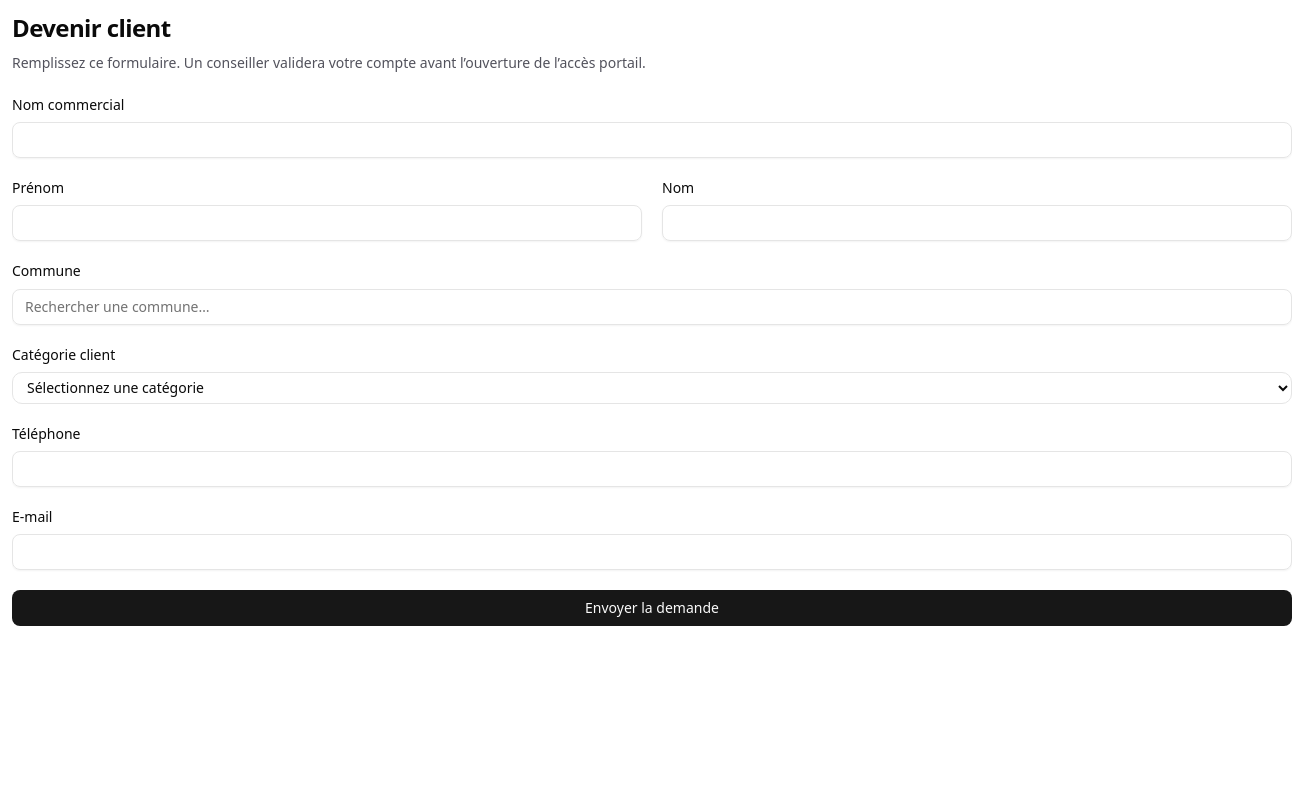
Test: SignupForm › refuse l’envoi sans commune
Type "Pharmacie Test" into the field labelled "Nom commercial".
click(652, 140); type("Pharmacie Test")  # box left=12, top=122, right=1292, bottom=158
Type "Amina" into the field labelled "Prénom".
click(327, 223); type("Amina")  # box left=12, top=205, right=642, bottom=241
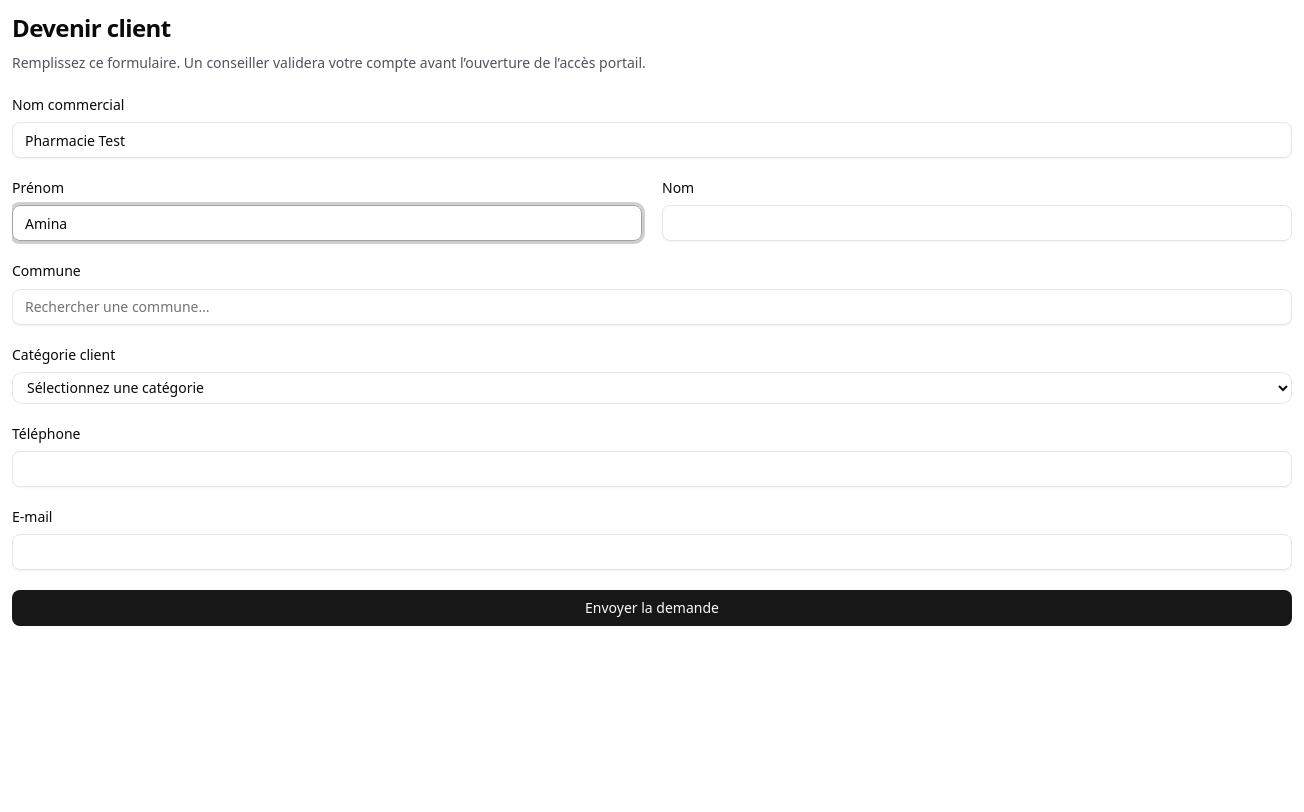
Type "Benali" into the field labelled "Nom".
click(977, 223); type("Benali")  # box left=662, top=205, right=1292, bottom=241
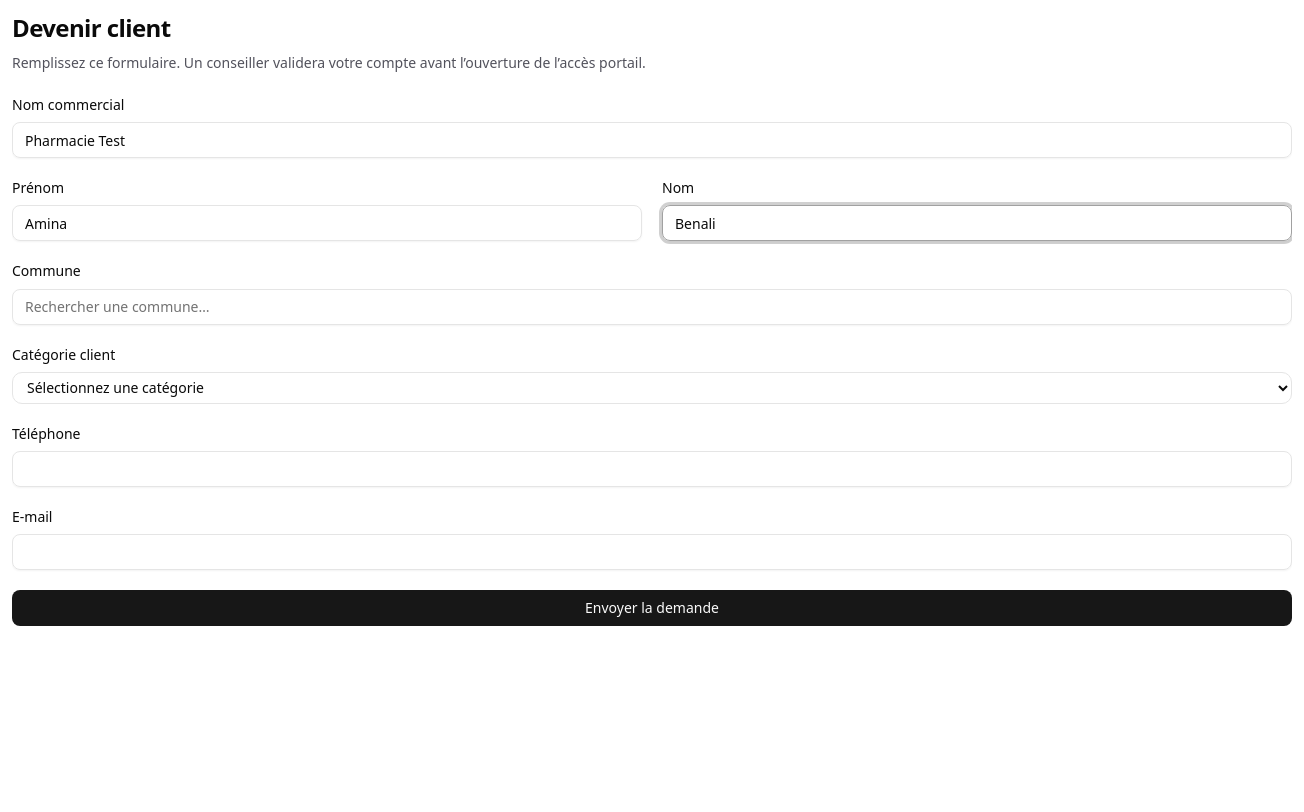
Select "Commercial" in the dropdown labelled "Catégorie client" at (652,388), box left=12, top=372, right=1292, bottom=404
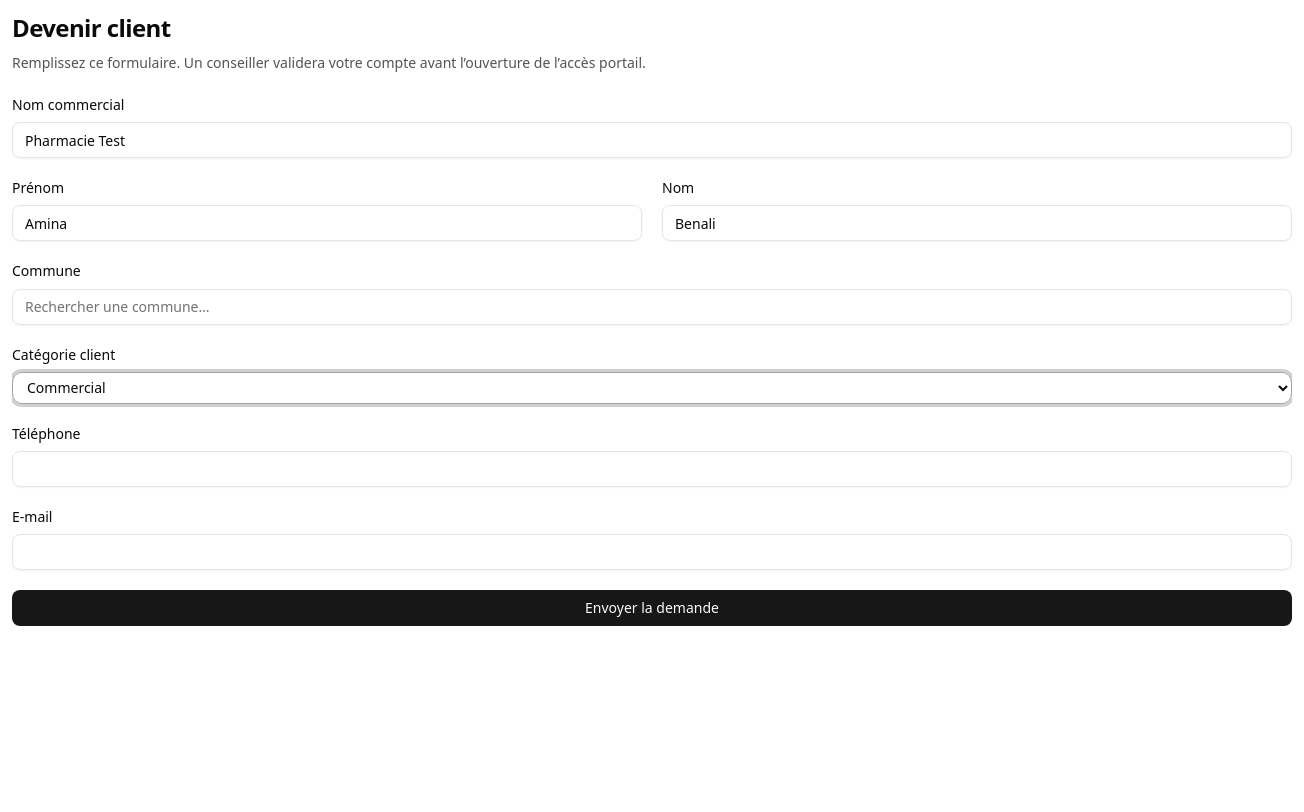
Type "0550123456" into the field labelled "Téléphone".
click(652, 469); type("0550123456")  # box left=12, top=451, right=1292, bottom=487
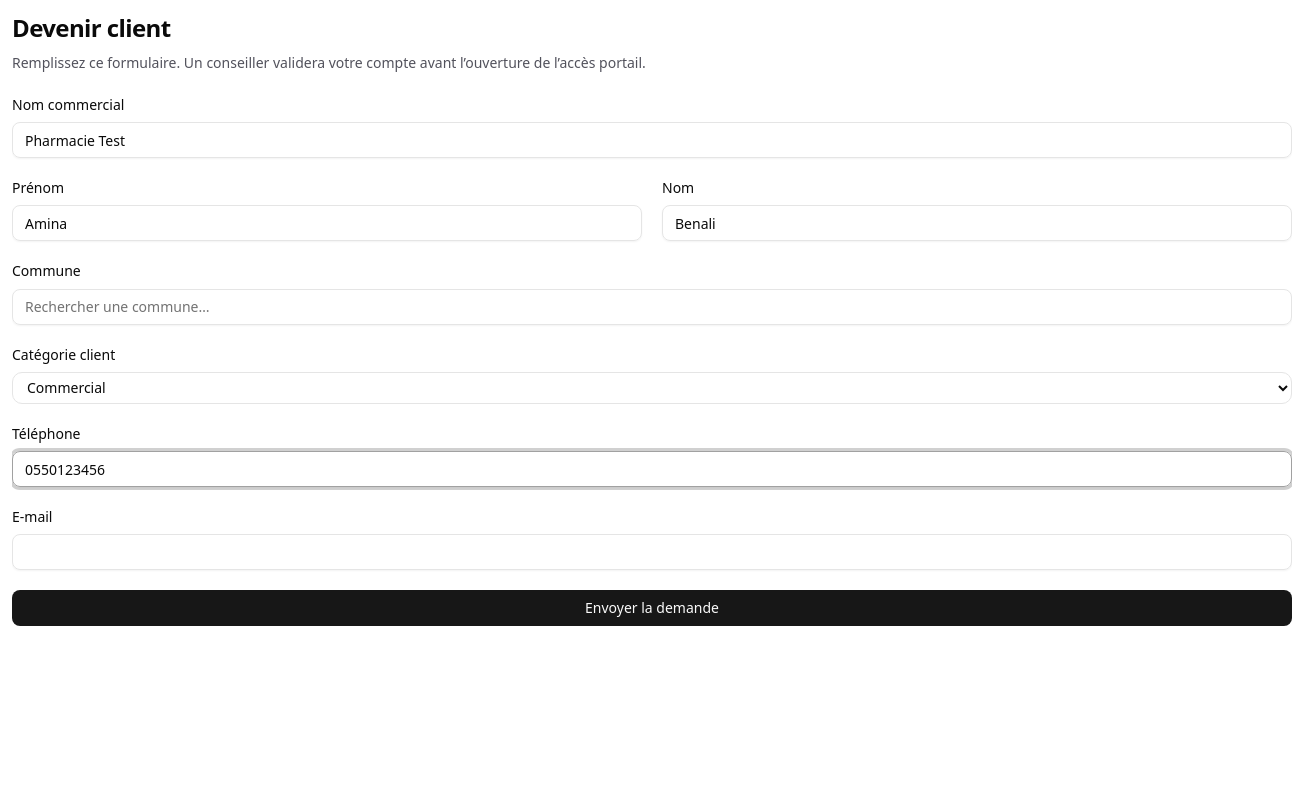
Type "amina@example.com" into the field labelled "E-mail".
click(652, 552); type("amina@example.com")  # box left=12, top=534, right=1292, bottom=570
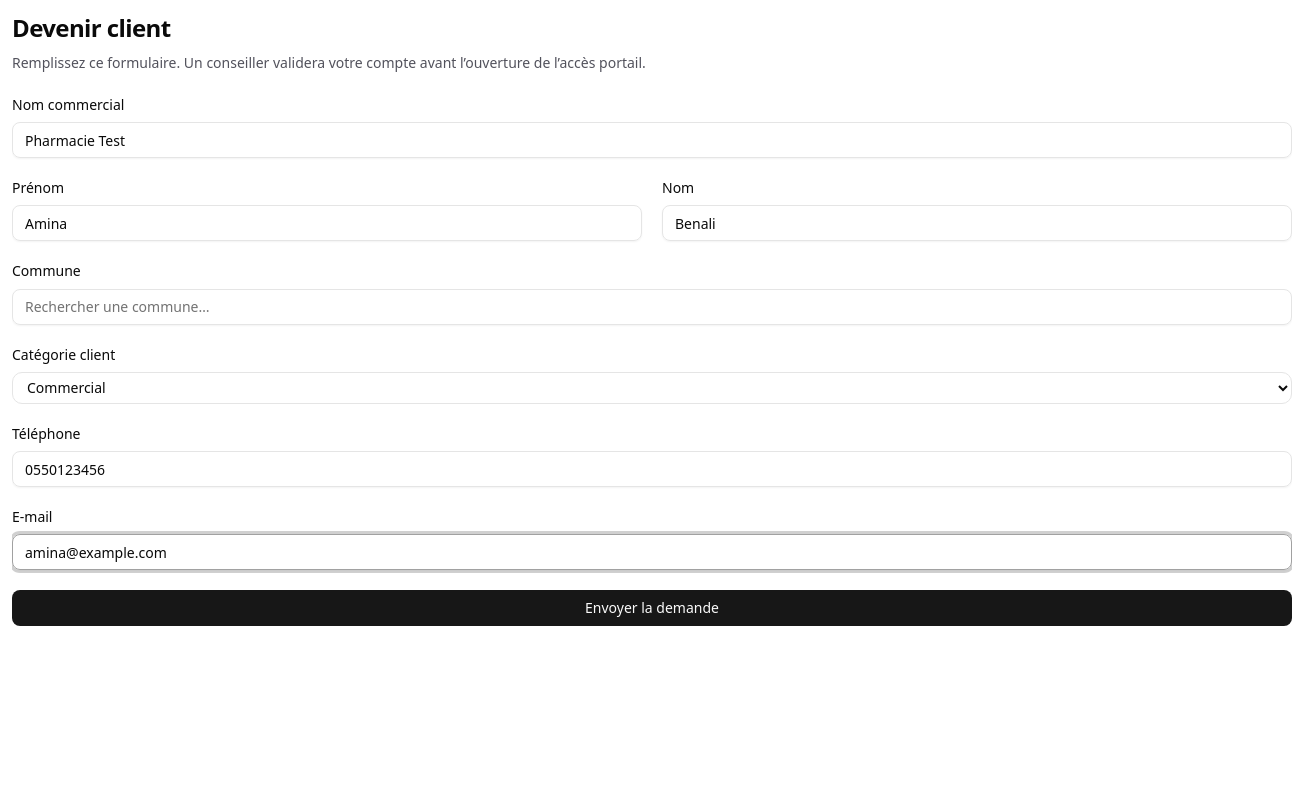
Click the button "Envoyer la demande".
click(652, 608)  # box left=12, top=590, right=1292, bottom=626
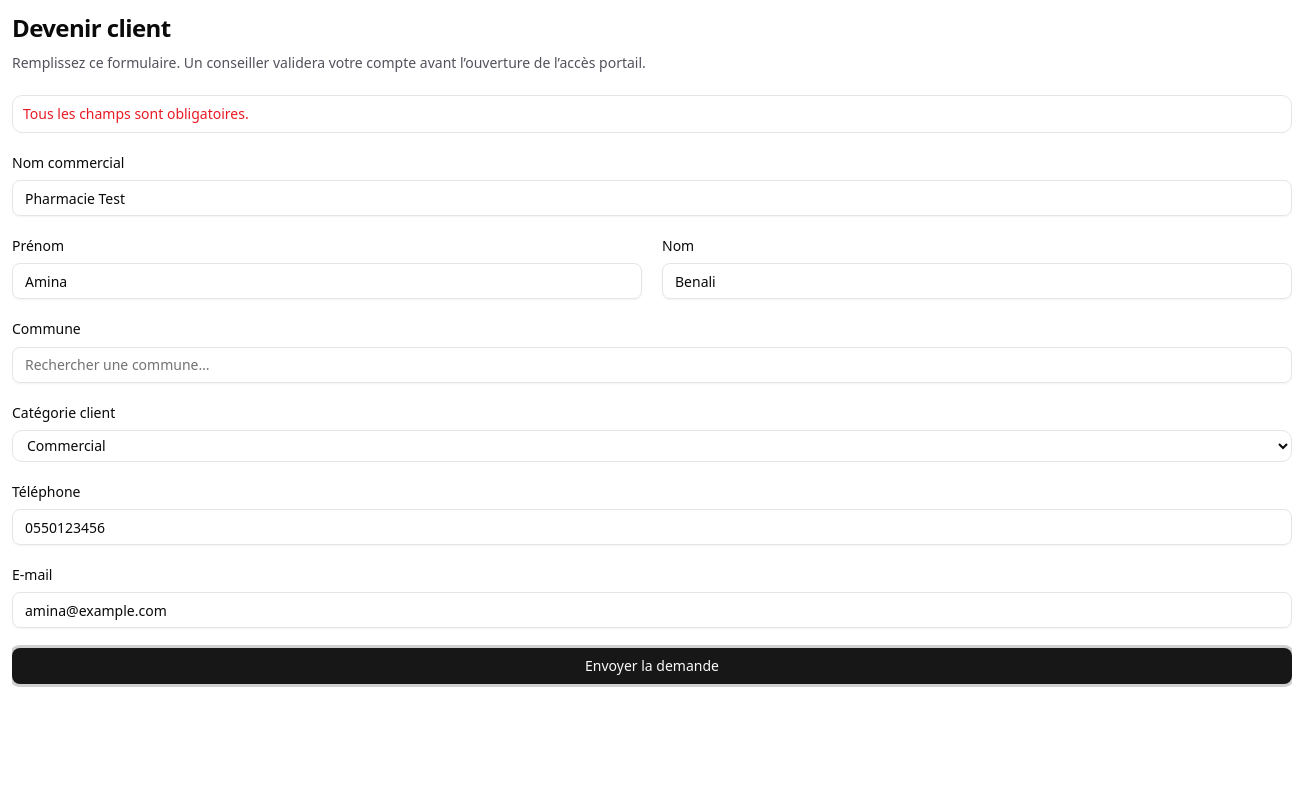
Expected: the text "Tous les champs sont obligatoires." is shown, left=23, top=104, right=249, bottom=123
